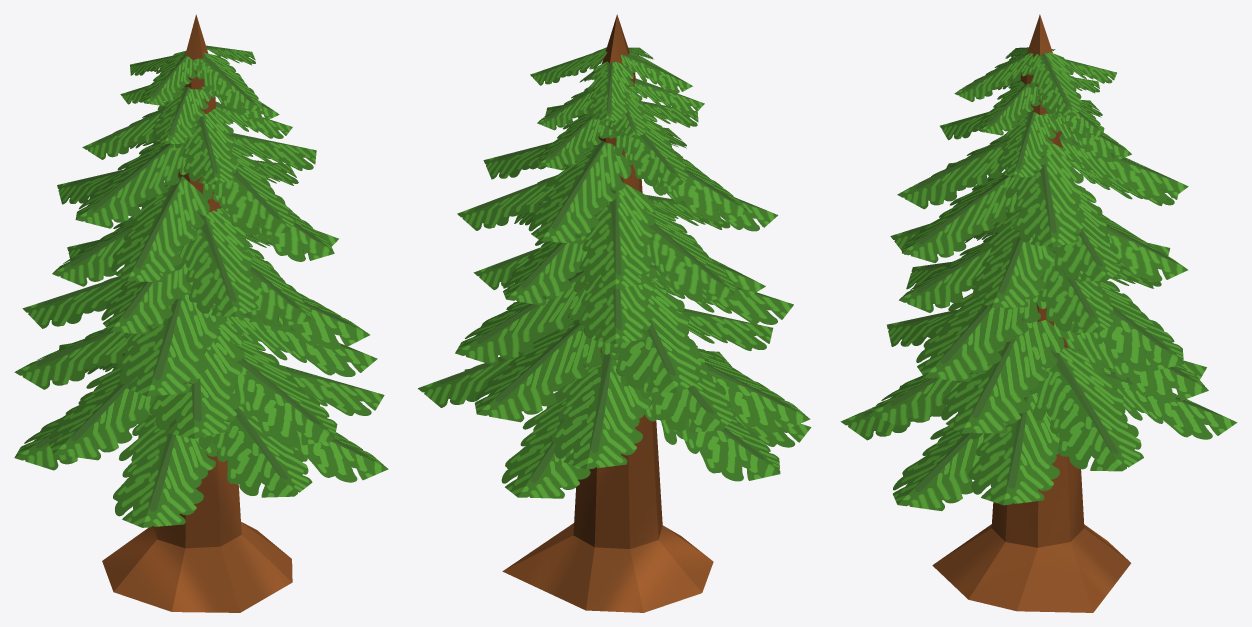
File: Tall_tree.fbx
The picture shows the model from 3 angles, left to right: view 1: azimuth 30°, elevation 25°; view 2: azimuth 150°, elevation 25°; view 3: azimuth 270°, elevation 25°; orthographic projection.
Visible parts, largest first — view 1: Oak_tall_tree; view 2: Oak_tall_tree; view 3: Oak_tall_tree.
Part boxes in pixels (x1=…): Oak_tall_tree: x1=14, y1=14, x2=388, y2=612; Oak_tall_tree: x1=418, y1=14, x2=811, y2=612; Oak_tall_tree: x1=840, y1=14, x2=1237, y2=612.
Bounding box in the file's own units: 510 × 793 × 513.
Materials: 7 (7 with a texture image).
